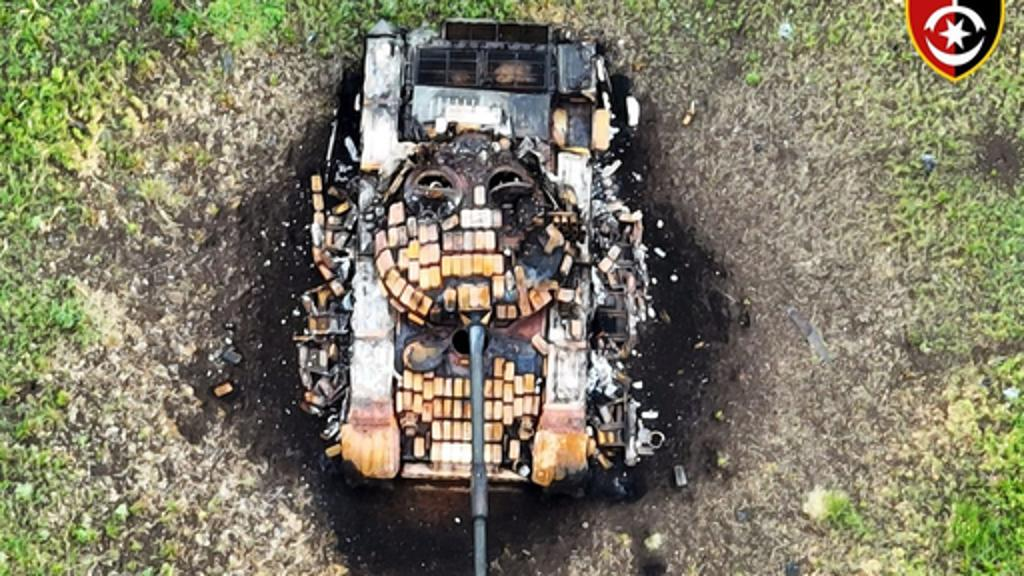TANK: (314, 20, 644, 576)
